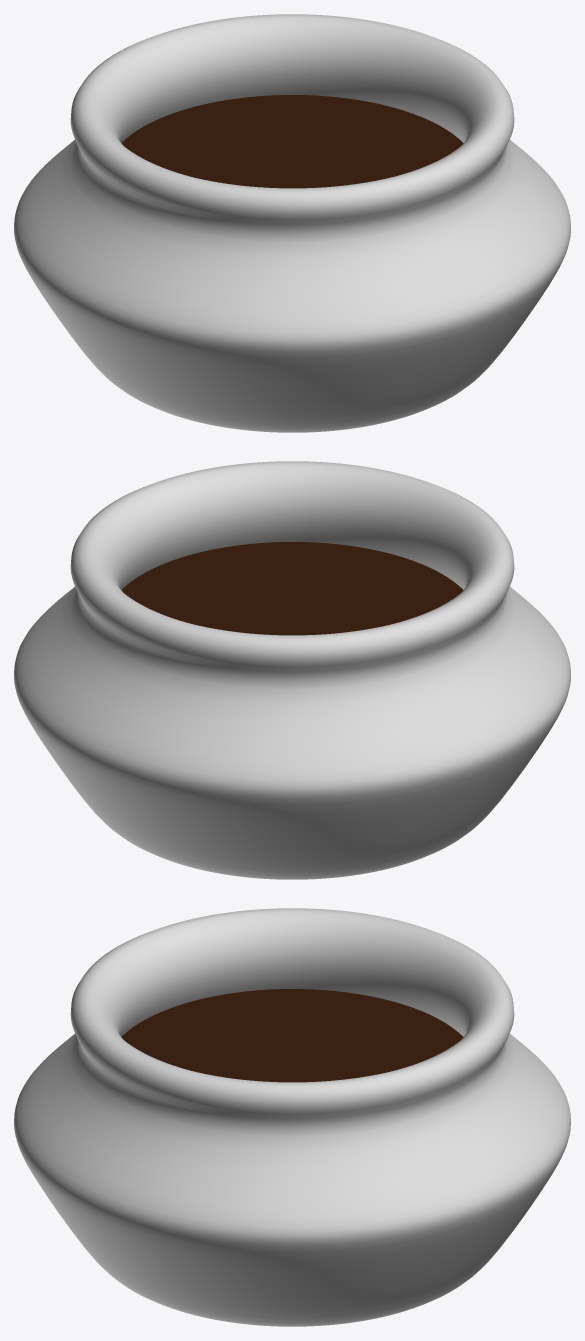
The model's file is plantgrowth.glb.
The picture shows the model from 3 angles, top to bottom: view 1: azimuth 30°, elevation 25°; view 2: azimuth 150°, elevation 25°; view 3: azimuth 270°, elevation 25°; orthographic projection.
Visible parts, largest first — view 1: Pot, Dirt; view 2: Pot, Dirt; view 3: Pot, Dirt.
Boxes of the visible parts, x1=… form: Pot: x1=14, y1=14, x2=570, y2=432; Dirt: x1=121, y1=95, x2=463, y2=188; Pot: x1=14, y1=461, x2=570, y2=879; Dirt: x1=121, y1=542, x2=463, y2=635; Pot: x1=14, y1=908, x2=570, y2=1326; Dirt: x1=121, y1=989, x2=463, y2=1082.
Size of what is drawn, in the model's own units: 2.83 by 1.64 by 2.83.
